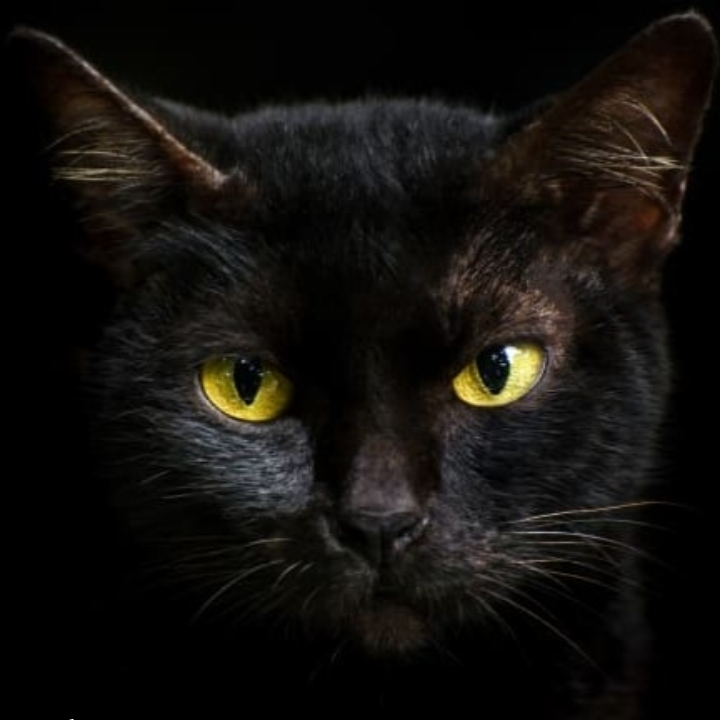Cat: (5, 20, 719, 719)
